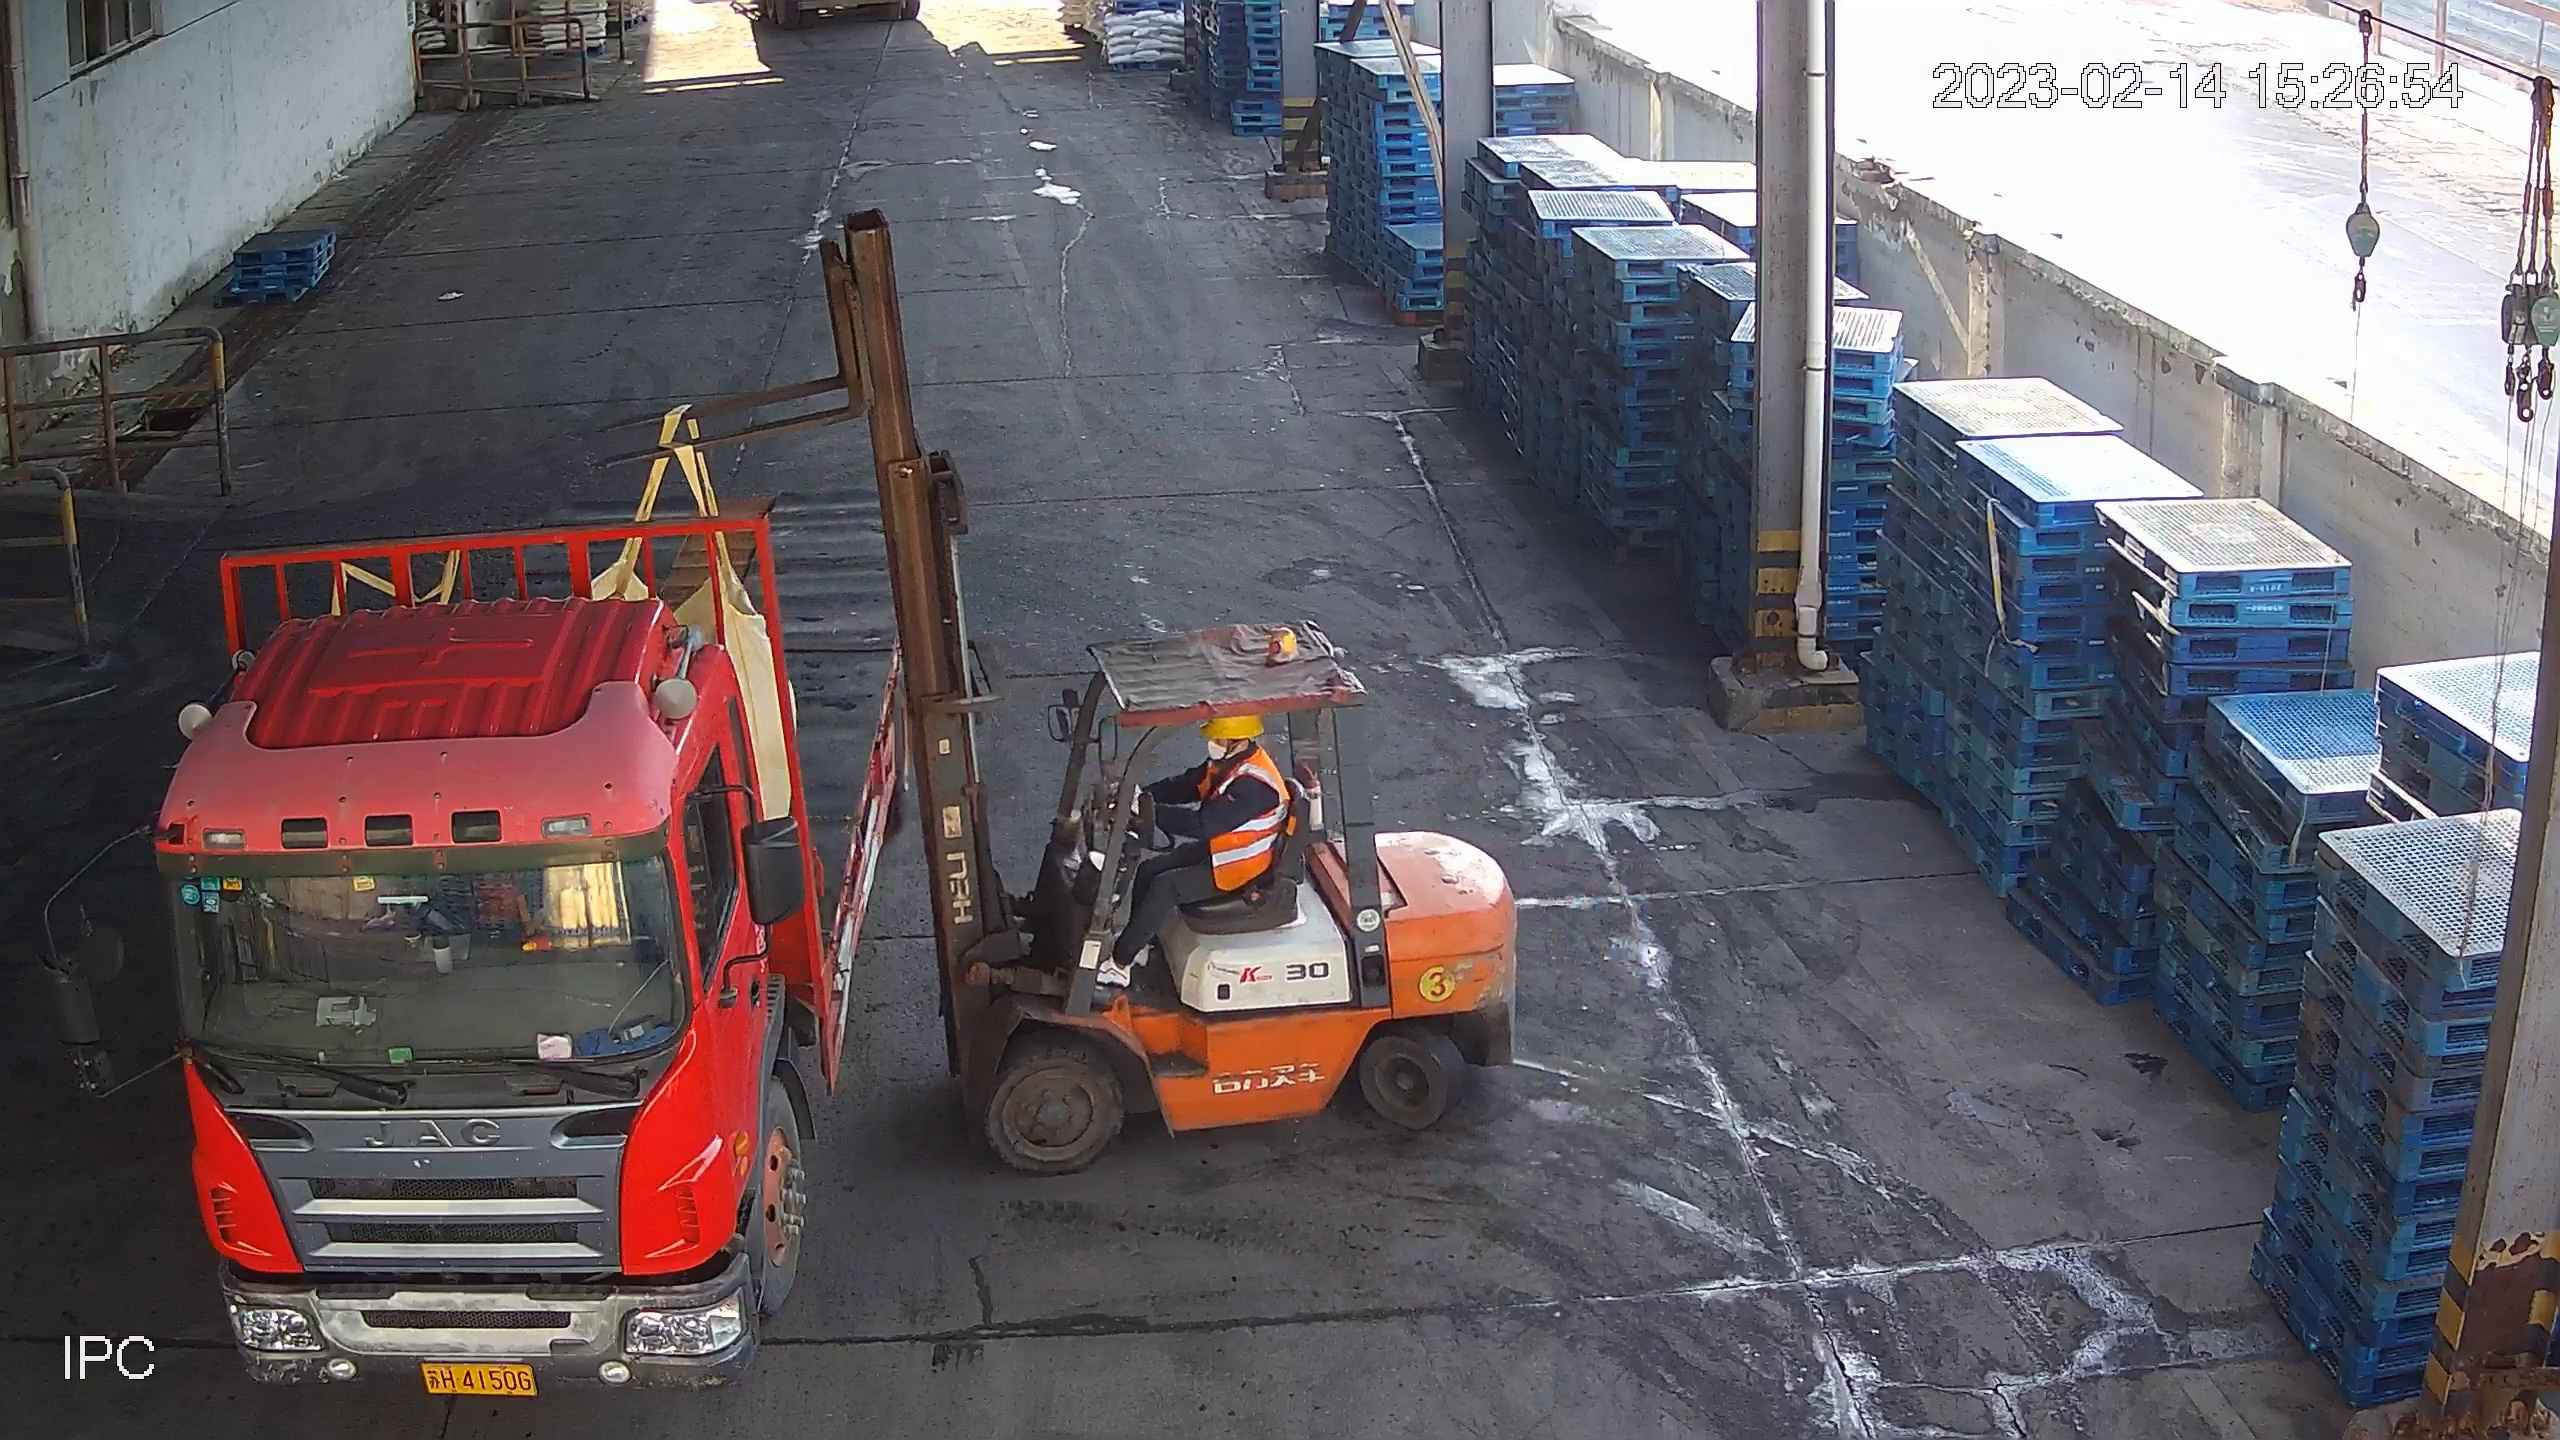head: (1169, 719, 1286, 815)
helmet: (1203, 714, 1265, 739)
people: (1090, 711, 1295, 994)
truck: (37, 486, 915, 1415)
